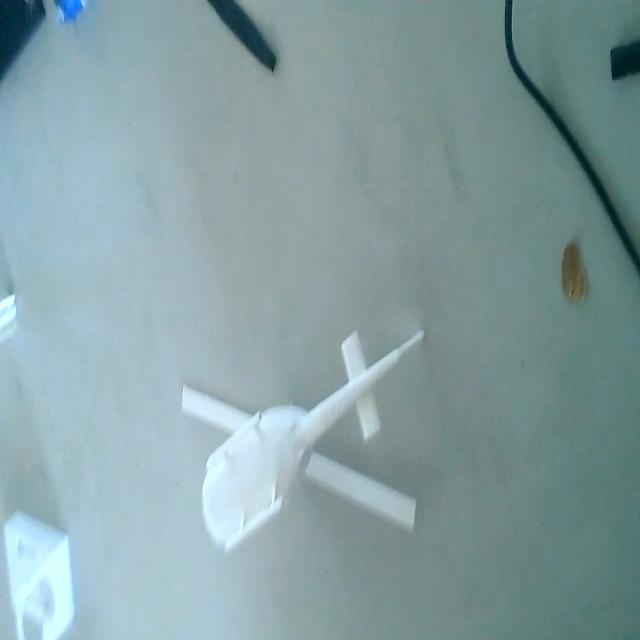Helicopter: (172, 328, 429, 561)
